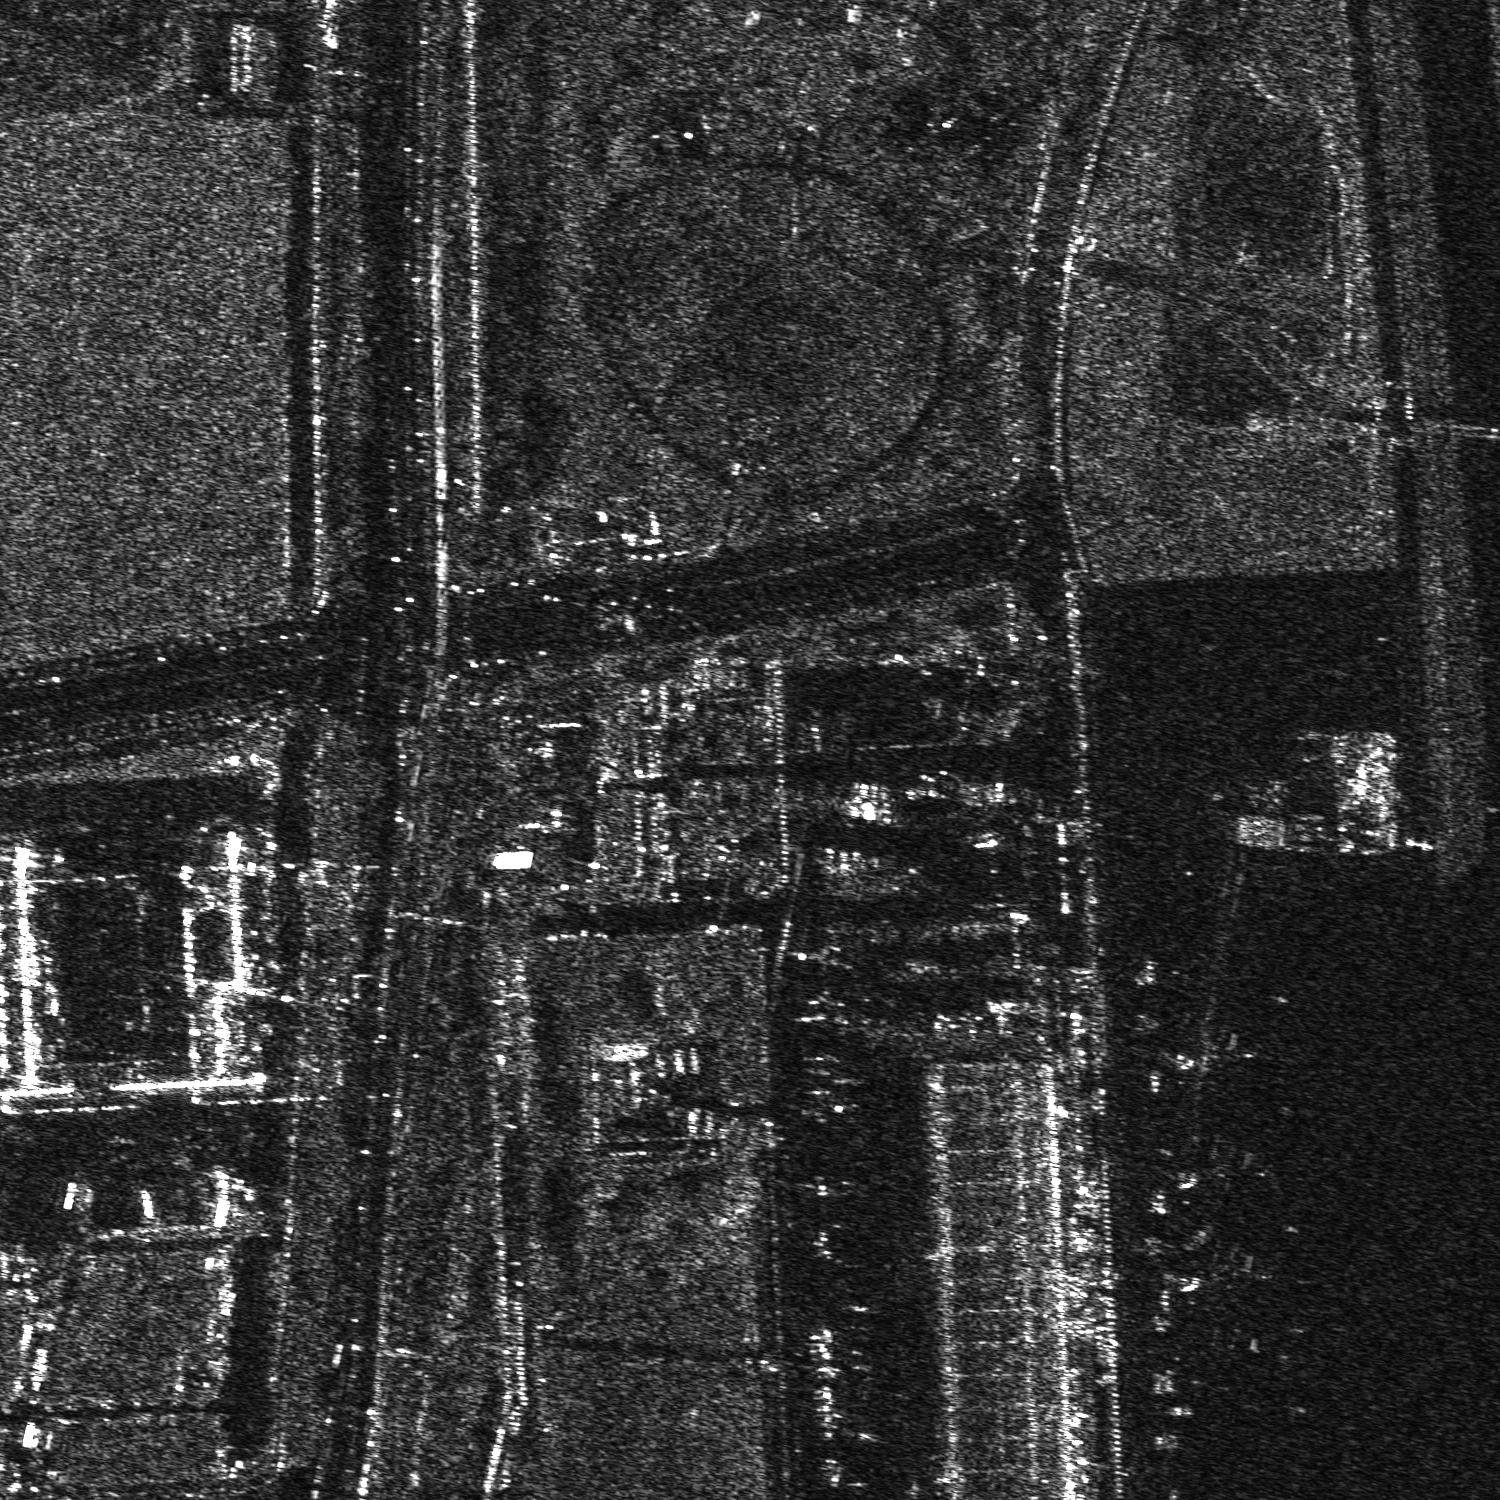A320/321: (1157, 1243, 1279, 1315), (1172, 1136, 1273, 1201)
Boeing737: (1163, 1026, 1260, 1099)
